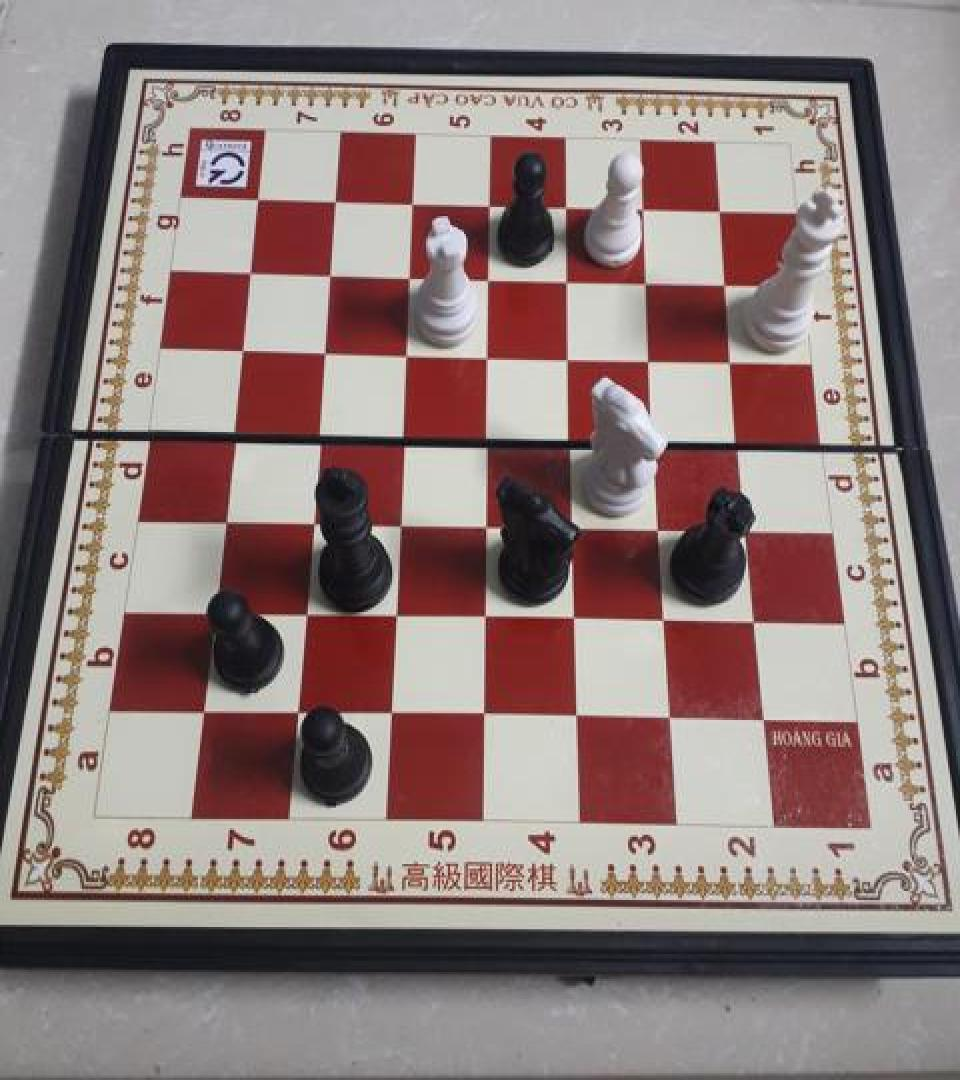xcorner: (189, 689, 221, 726), (561, 697, 593, 734), (654, 698, 686, 735), (282, 692, 314, 728), (375, 694, 407, 730), (468, 695, 500, 731), (748, 701, 780, 737), (199, 592, 231, 628), (289, 593, 321, 629), (379, 595, 411, 631), (469, 596, 501, 632), (559, 598, 591, 634), (649, 600, 681, 636), (739, 602, 771, 638), (209, 500, 241, 536), (296, 500, 328, 536), (383, 503, 415, 539), (470, 504, 502, 540), (557, 505, 589, 541), (644, 508, 676, 544), (731, 508, 763, 544), (218, 413, 250, 449), (302, 414, 334, 450), (386, 416, 418, 452), (471, 418, 503, 454), (555, 420, 587, 456), (639, 421, 671, 457), (723, 422, 755, 458), (226, 332, 258, 368), (308, 333, 340, 369), (390, 335, 422, 371), (471, 336, 503, 372), (553, 338, 585, 374), (635, 340, 667, 376), (716, 341, 748, 377), (234, 256, 266, 292), (313, 258, 345, 294), (393, 259, 425, 295), (472, 260, 504, 296), (551, 261, 583, 297), (630, 263, 662, 299), (710, 264, 742, 300), (242, 184, 274, 220), (396, 187, 428, 223), (472, 188, 504, 224), (549, 189, 581, 225), (626, 191, 658, 227), (319, 186, 351, 221), (703, 193, 735, 228)
